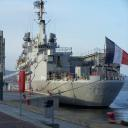Portanaves: (14, 2, 126, 112)
